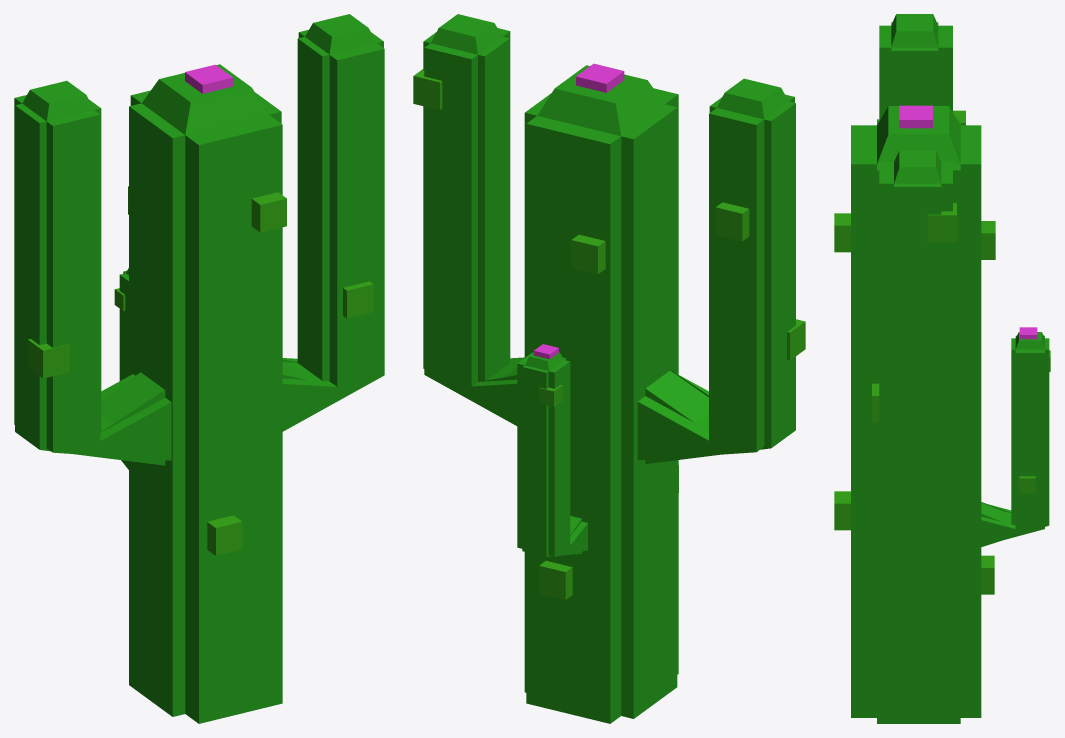
Rendered from new_cactus02.fbx.
The picture shows the model from 3 angles, left to right: view 1: azimuth 30°, elevation 25°; view 2: azimuth 150°, elevation 25°; view 3: azimuth 270°, elevation 25°; orthographic projection. The views are drawn at different scales.
Parts seen in each view (by area): view 1: Cube.001; view 2: Cube.001; view 3: Cube.001.
Boxes of the visible parts, <box> form: Cube.001: <box>14,14,384,723</box>; Cube.001: <box>413,14,805,723</box>; Cube.001: <box>834,14,1050,723</box>.
Bounding box in the file's own units: 114 × 197 × 63.66.
